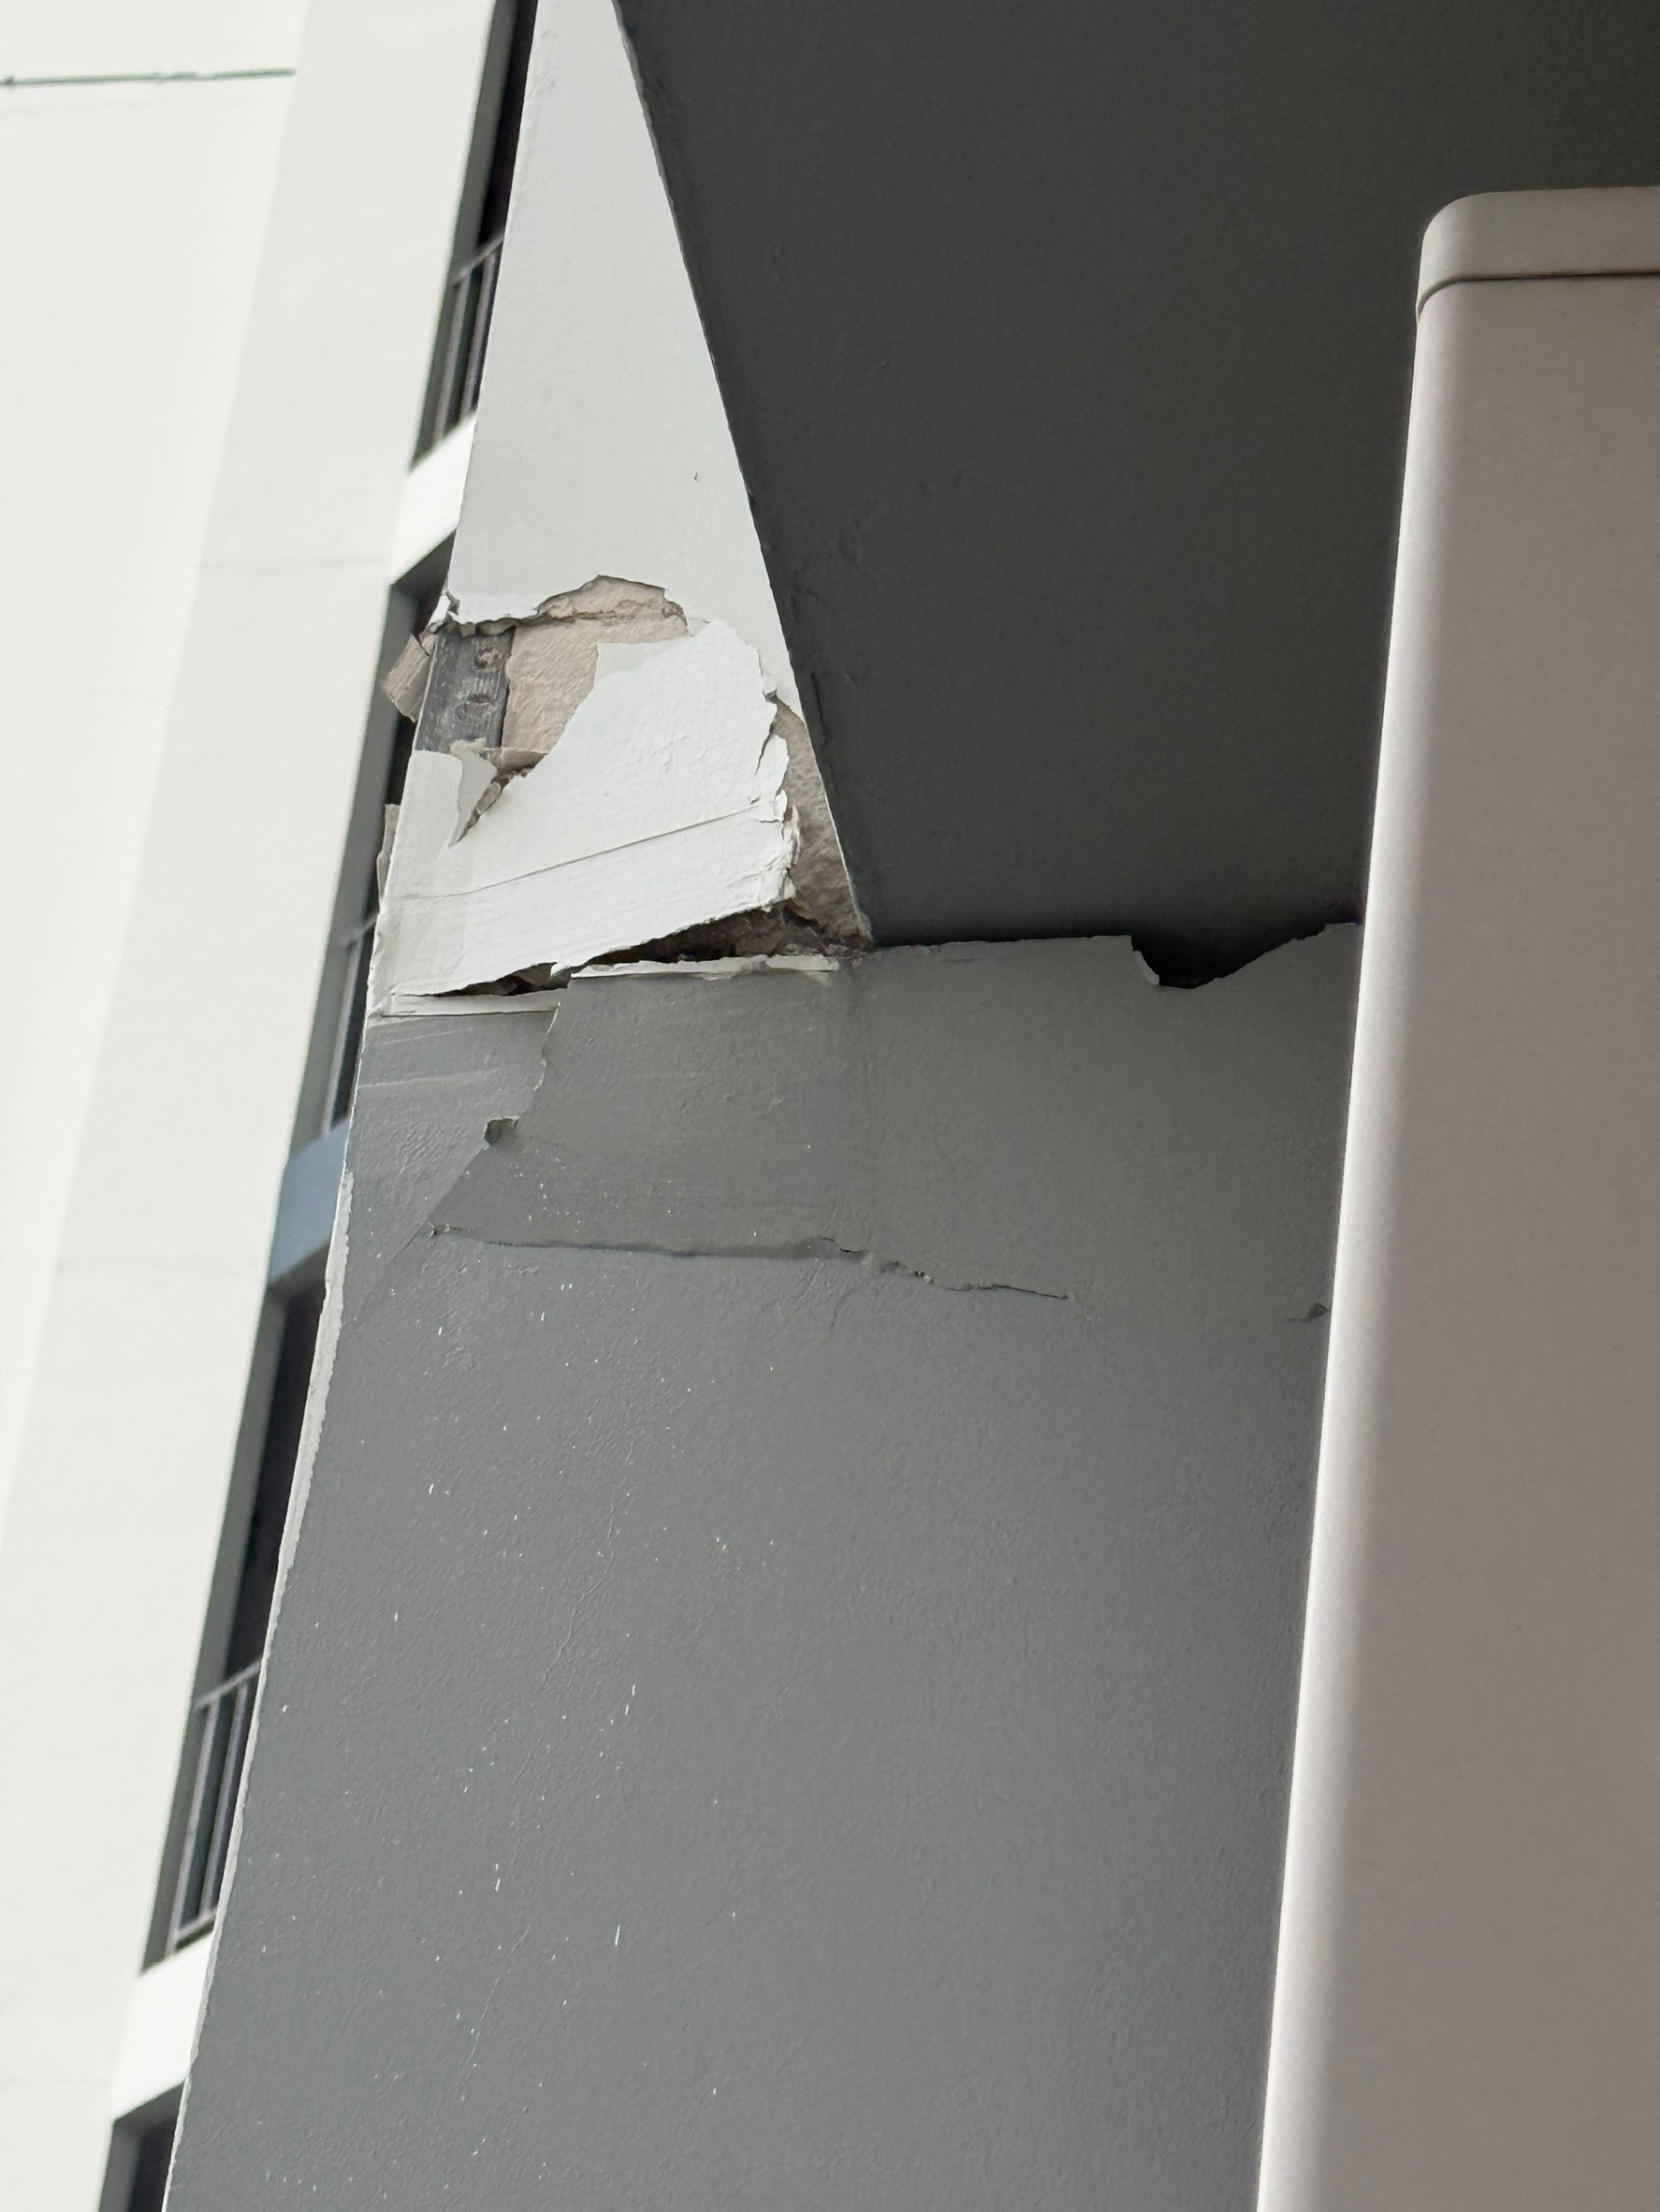High: (361, 506, 1365, 1349)
